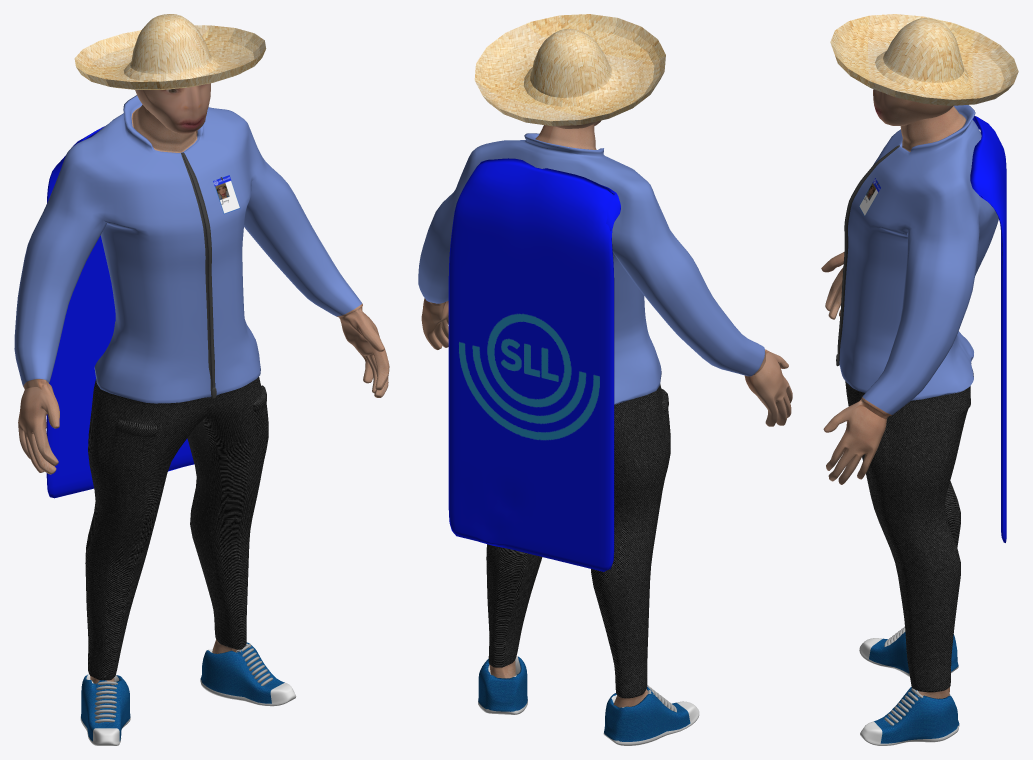
Rendered from SLLvakt3.fbx.
The picture shows the model from 3 angles, left to right: view 1: azimuth 30°, elevation 25°; view 2: azimuth 150°, elevation 25°; view 3: azimuth 270°, elevation 25°; orthographic projection.
Parts seen in each view (by area): view 1: pCube3, pCylinder1; view 2: pCube3, pCylinder1; view 3: pCube3, pCylinder1.
Boxes of the visible parts, <box> form: pCube3: <box>14,83,389,745</box>; pCylinder1: <box>74,14,266,89</box>; pCube3: <box>418,120,792,745</box>; pCylinder1: <box>474,14,665,126</box>; pCube3: <box>821,89,1006,745</box>; pCylinder1: <box>830,14,1018,105</box>.
Size of the model in its own units: 6.25 by 11.59 by 3.05.
Materials: 12 (7 with a texture image).
